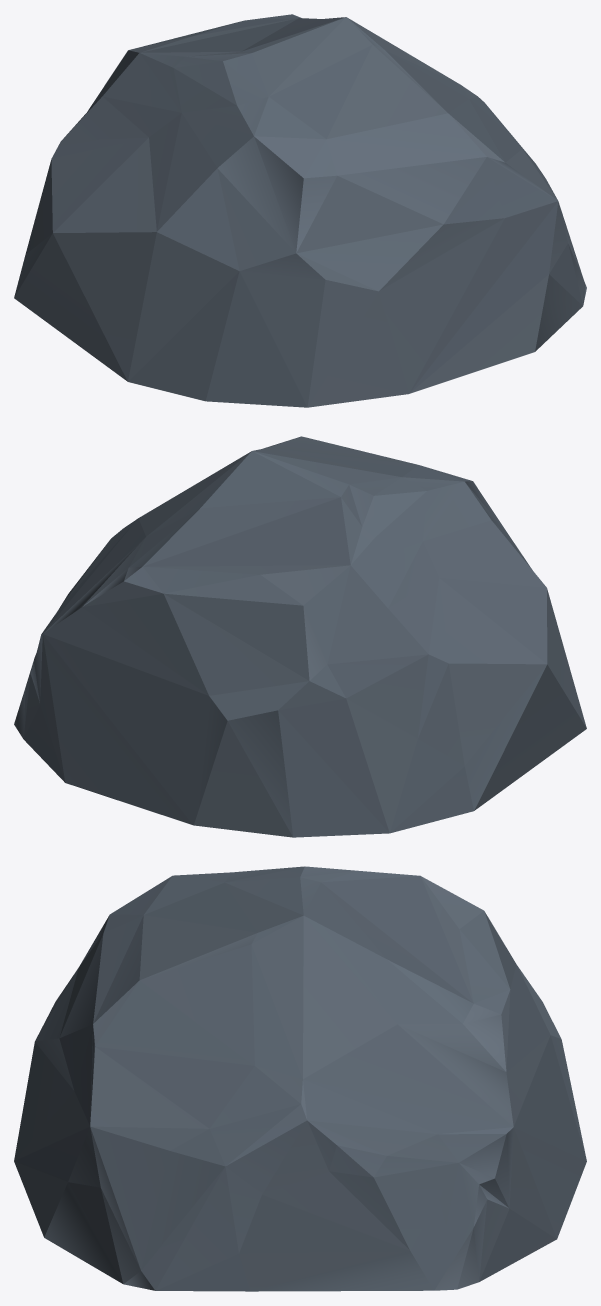
Rendered from boulder-small-b.glb.
The picture shows the model from 3 angles, top to bottom: view 1: azimuth 30°, elevation 25°; view 2: azimuth 150°, elevation 25°; view 3: azimuth 270°, elevation 25°; orthographic projection. The views are drawn at different scales.
Parts seen in each view (by area): view 1: boulder-small-b; view 2: boulder-small-b; view 3: boulder-small-b.
Boxes of the visible parts, left/top/right/bottom form: boulder-small-b: left=14, top=14, right=586, bottom=407; boulder-small-b: left=14, top=436, right=586, bottom=837; boulder-small-b: left=14, top=866, right=586, bottom=1291.
Bounding box in the file's own units: 0.7225 × 0.413 × 0.7062.
